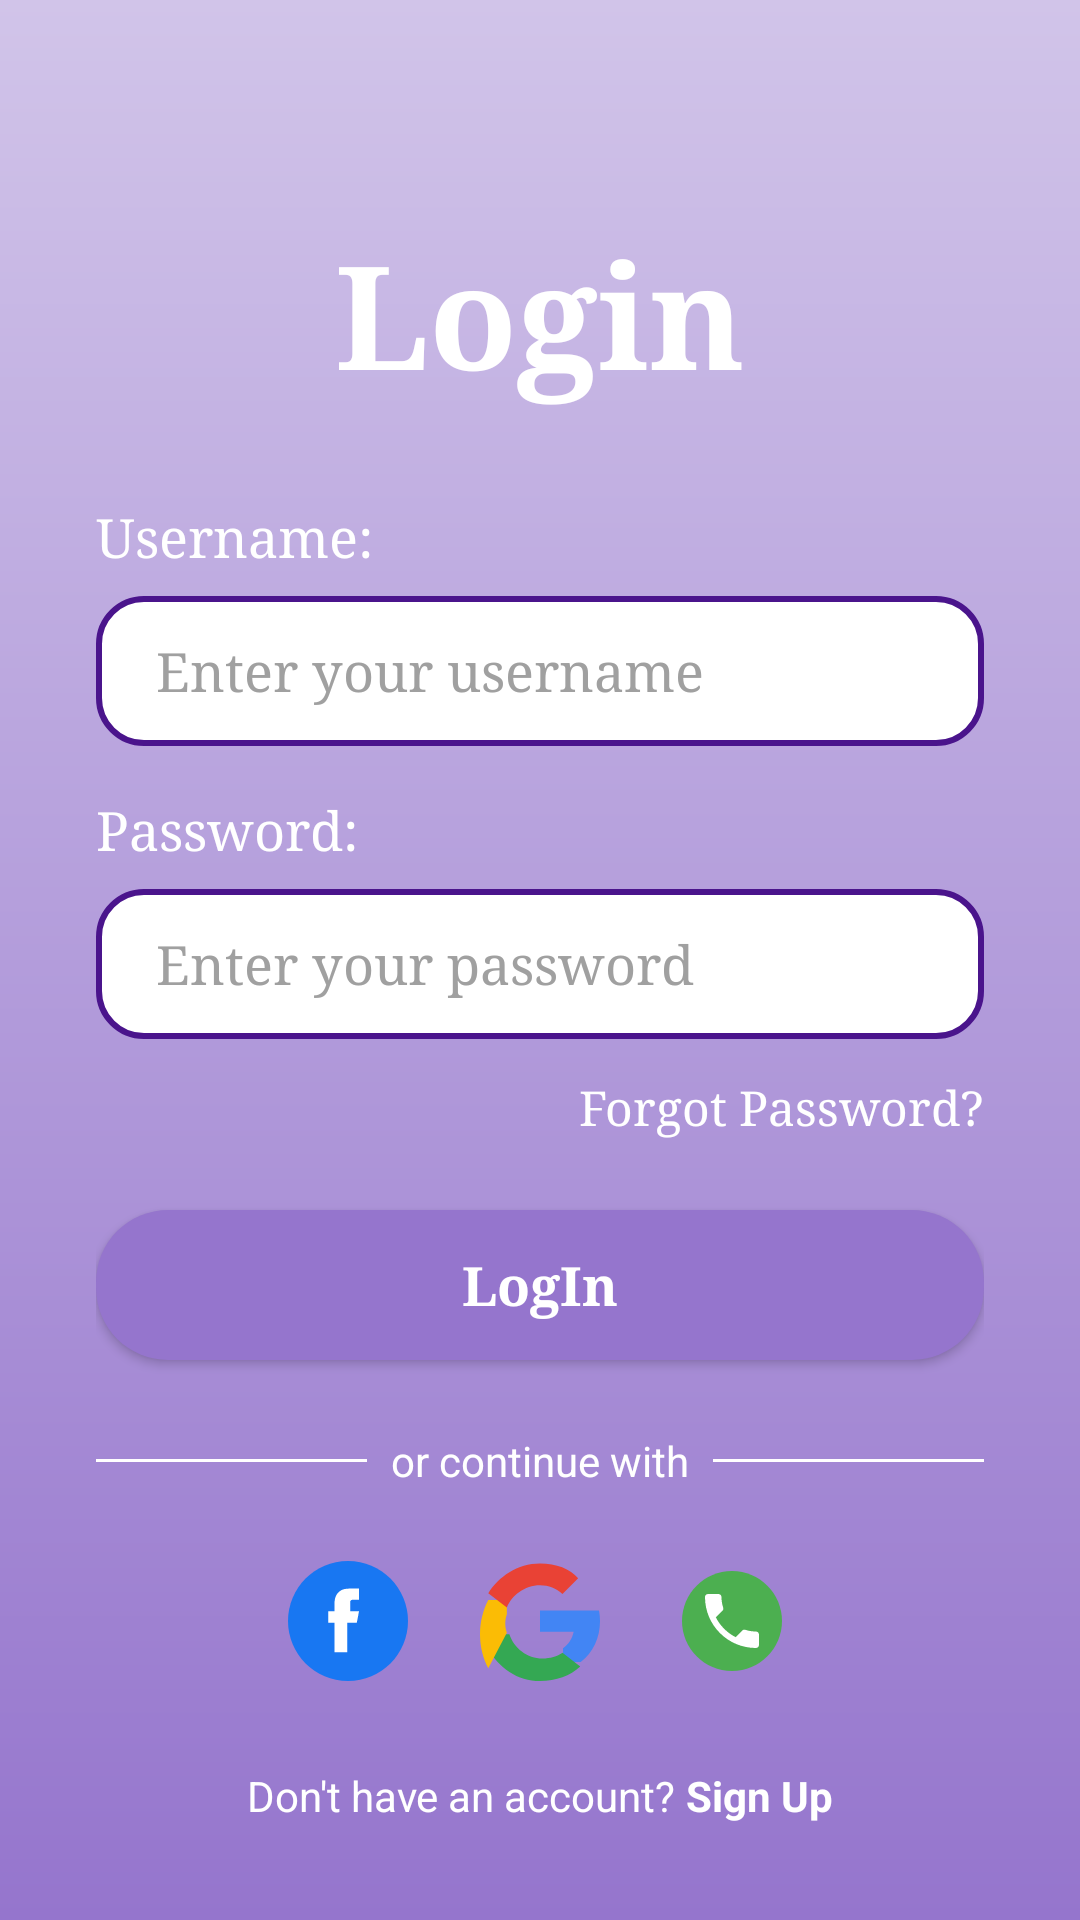

Screen size 1080 × 1920. Icon name, then its box in pixels as (x1, y1, x2, y2):
phone: (682, 1571, 782, 1671)
